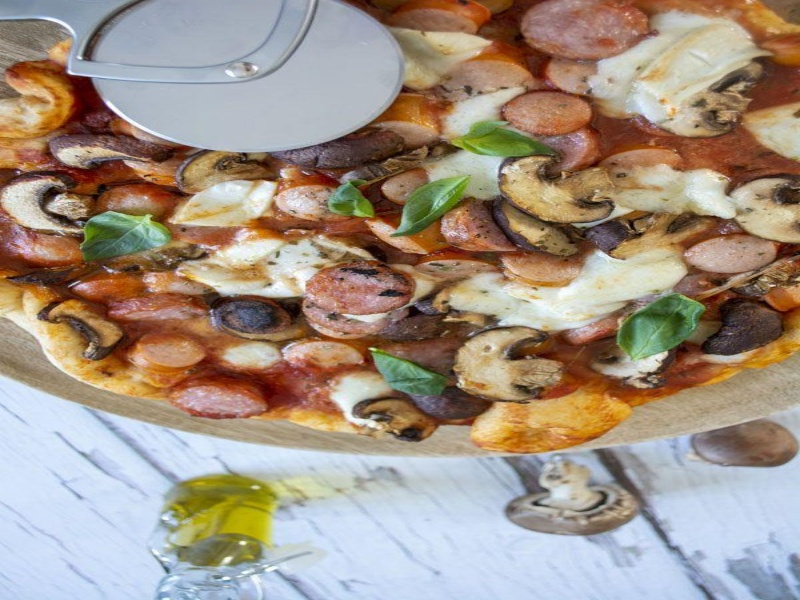champignon: (449, 320, 566, 411), (493, 154, 623, 228), (1, 171, 97, 247), (718, 168, 800, 245), (345, 395, 452, 446)
